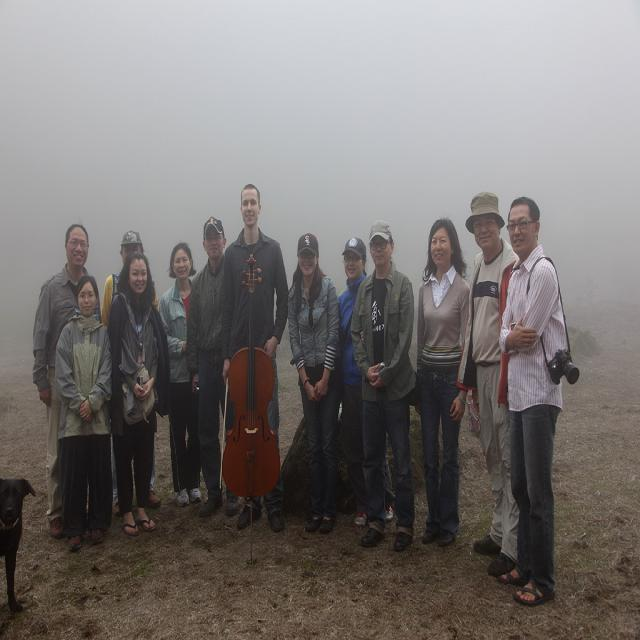cello: (220, 250, 285, 504)
